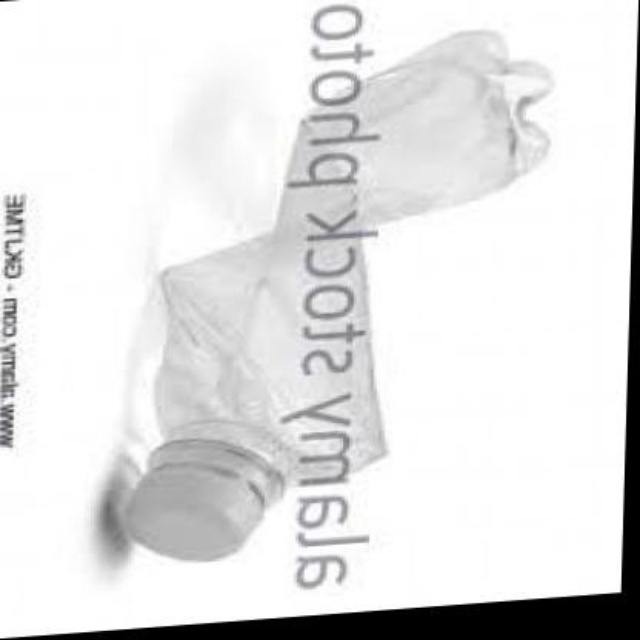trash: (105, 31, 551, 558)
